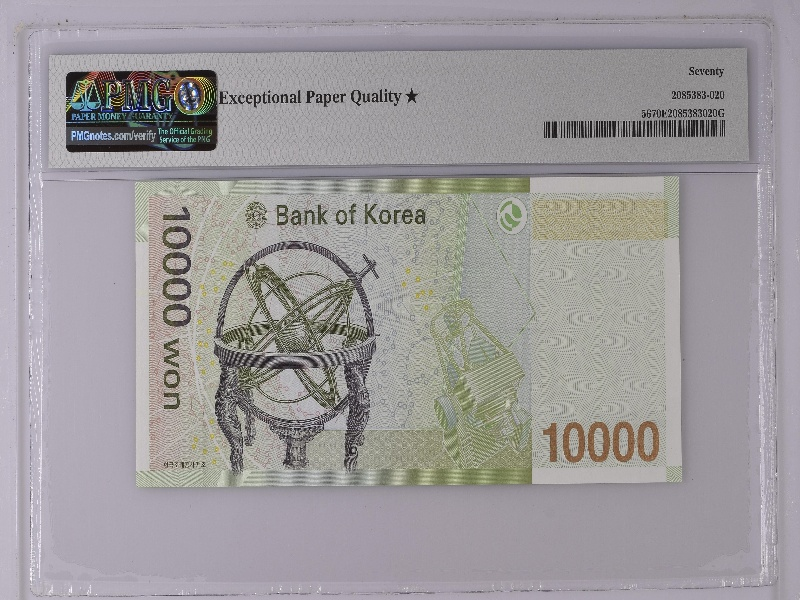papernote: (131, 177, 686, 489)
